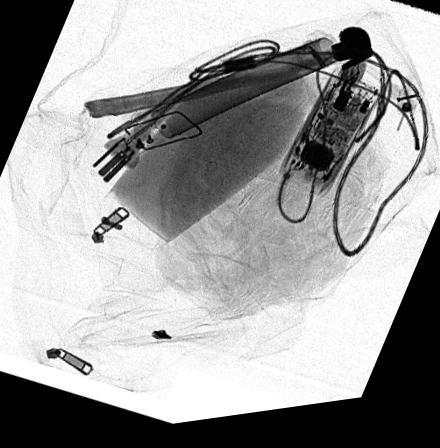Hammer: (150, 36, 374, 145)
